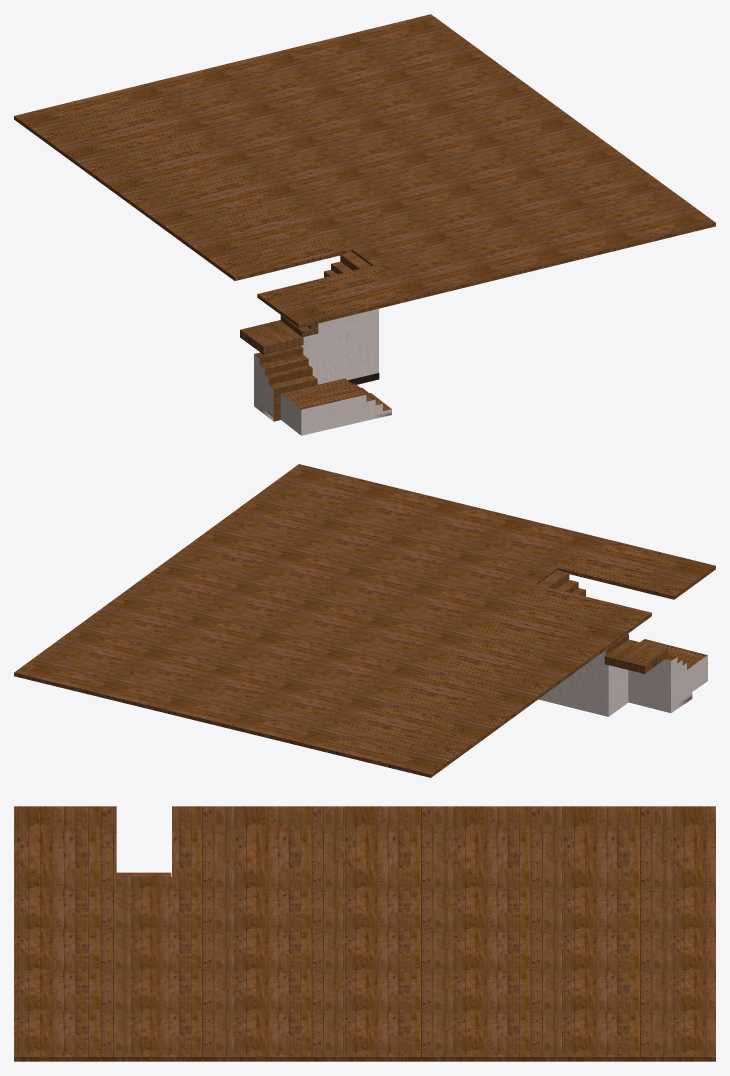
File: replacements.fbx
3 renders of one model, top to bottom at view 1: azimuth 30°, elevation 25°; view 2: azimuth 150°, elevation 25°; view 3: azimuth 270°, elevation 25°, orthographic. The views are drawn at different scales.
Visible parts, largest first — view 1: floor, step1, stairpiece, step2, stepout2, step3; view 2: floor, stairpiece, step2, stepout2, step1, step4; view 3: floor.
Boxes of the visible parts, bbox=[...] form: floor: bbox=[14, 14, 715, 327]; step1: bbox=[280, 378, 391, 435]; stairpiece: bbox=[301, 320, 376, 384]; step2: bbox=[254, 345, 317, 421]; stepout2: bbox=[240, 320, 303, 354]; step3: bbox=[280, 309, 375, 337]; floor: bbox=[14, 464, 715, 777]; stairpiece: bbox=[538, 654, 628, 716]; step2: bbox=[628, 654, 692, 712]; stepout2: bbox=[604, 639, 668, 673]; step1: bbox=[640, 639, 707, 691]; step4: bbox=[538, 570, 585, 596]; floor: bbox=[14, 806, 715, 1061].
Bounding box in the file's own units: 61.27 × 16.1 × 72.36.
